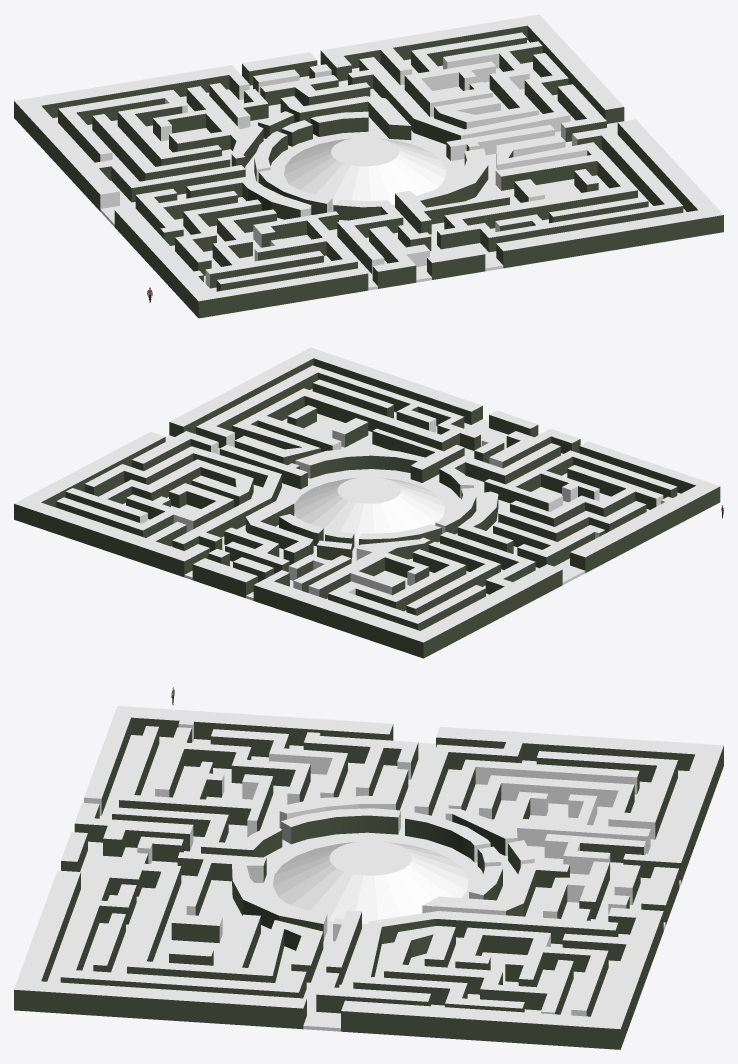
The picture shows the model from 3 angles, top to bottom: view 1: azimuth 30°, elevation 25°; view 2: azimuth 150°, elevation 25°; view 3: azimuth 270°, elevation 25°; orthographic projection. The views are drawn at different scales.
Visible parts, largest first — view 1: Layer0_001; view 2: Layer0_001; view 3: Layer0_001.
Part boxes in pixels (box(x1,y1,x2,y2)): Layer0_001: box(14, 14, 723, 318); Layer0_001: box(14, 347, 720, 658); Layer0_001: box(14, 706, 723, 1049).
Size of the model in its own units: 72716 by 2816 by 64242.
